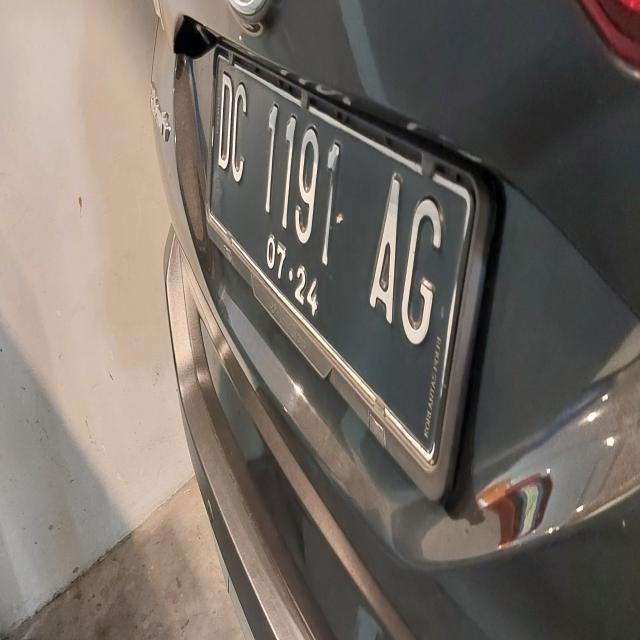1: (320, 124, 342, 291), (260, 86, 282, 226), (284, 101, 292, 249)
9: (294, 99, 315, 262)
A: (364, 152, 401, 336)
C: (230, 75, 252, 195)
D: (216, 57, 231, 180)
G: (398, 170, 448, 373)
